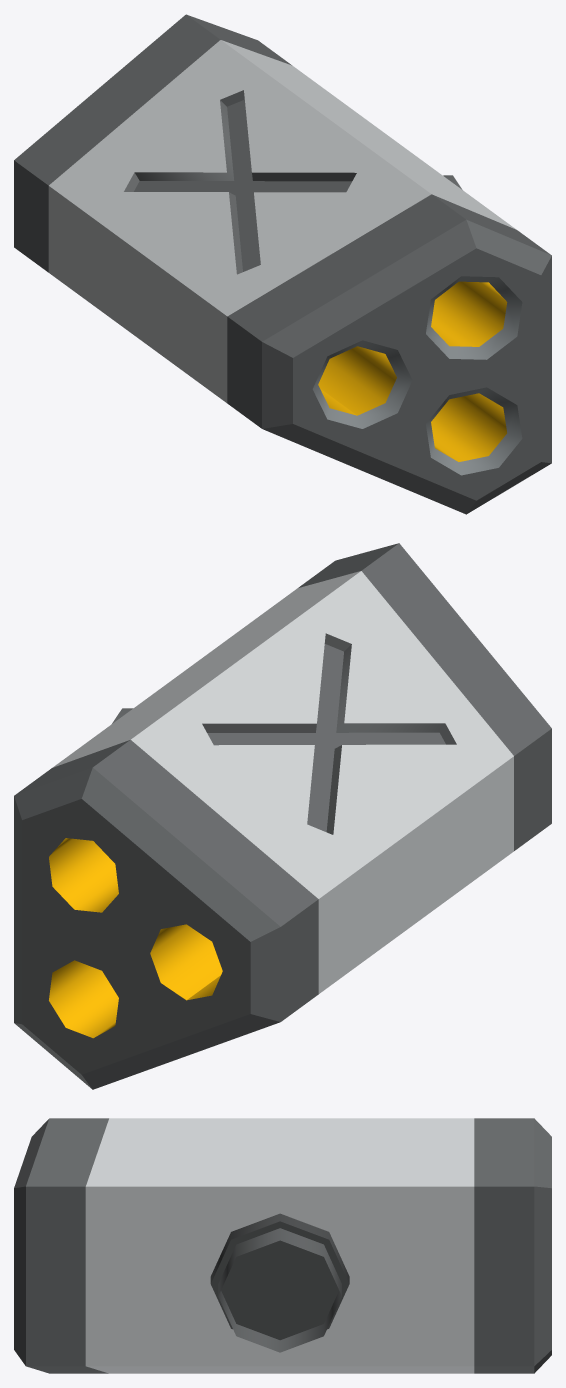
File: Turret_011_Gun_02.fbx
3 views of the same model, one above another, from view 1: azimuth 30°, elevation 25°; view 2: azimuth 150°, elevation 25°; view 3: azimuth 270°, elevation 25° (orthographic). The views are drawn at different scales.
Visible parts, largest first — view 1: Turret_011_Gun_02; view 2: Turret_011_Gun_02; view 3: Turret_011_Gun_02.
Boxes of the visible parts, <box> form: Turret_011_Gun_02: <box>14,14,551,514</box>; Turret_011_Gun_02: <box>14,543,551,1089</box>; Turret_011_Gun_02: <box>14,1118,551,1373</box>.
Bounding box in the file's own units: 63.52 × 117 × 61.33.
